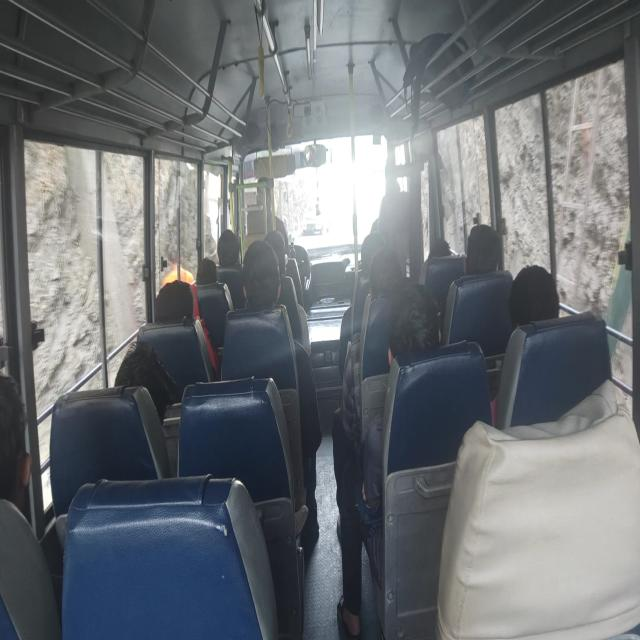person: (335, 281, 441, 638), (239, 238, 322, 545), (490, 264, 560, 426), (441, 224, 503, 344), (114, 339, 180, 425), (0, 373, 32, 517), (508, 264, 560, 329), (463, 223, 502, 275), (153, 279, 194, 323), (160, 246, 195, 287), (216, 229, 242, 269), (202, 214, 216, 260)
